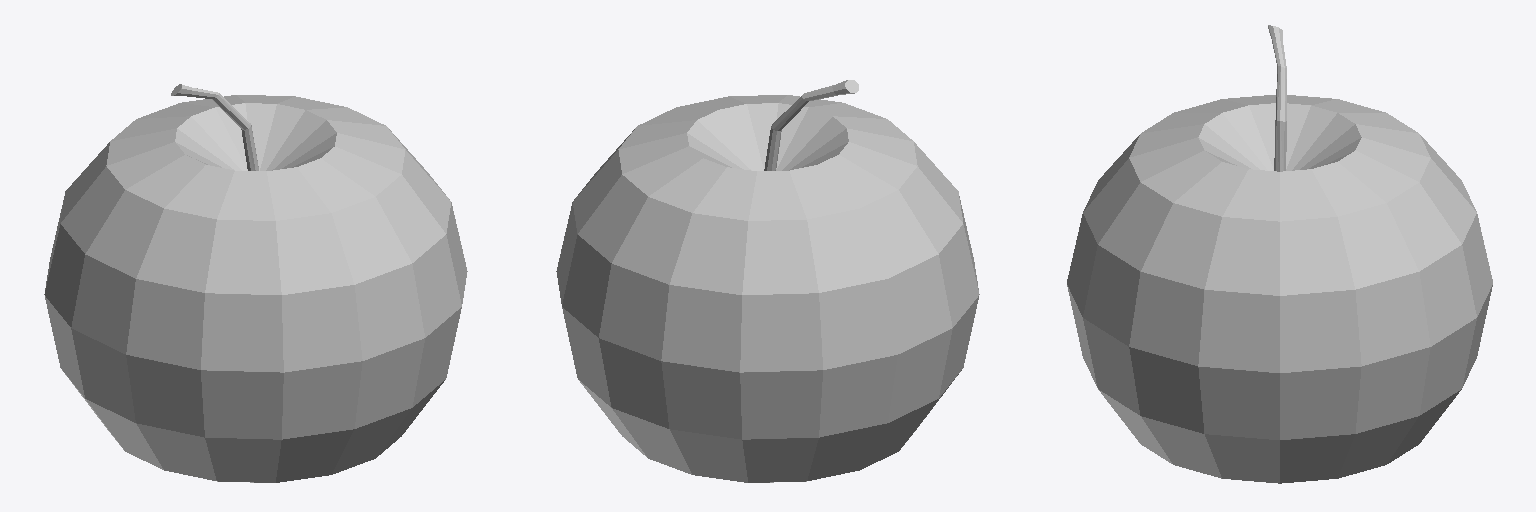
Rendered from Apple.obj.
3 views of the same model, side by side, from view 1: azimuth 30°, elevation 25°; view 2: azimuth 150°, elevation 25°; view 3: azimuth 270°, elevation 25° (orthographic).
Parts seen in each view (by area): view 1: Sphere, Cylinder; view 2: Sphere, Cylinder; view 3: Sphere, Cylinder.
Boxes of the visible parts, x1,y1,x2,y2 form: Sphere: [44, 95, 467, 482]; Cylinder: [171, 84, 258, 170]; Sphere: [556, 95, 979, 482]; Cylinder: [764, 80, 858, 170]; Sphere: [1067, 95, 1492, 483]; Cylinder: [1268, 25, 1286, 171].
Bounding box in the file's own units: 2 × 1.99 × 2.